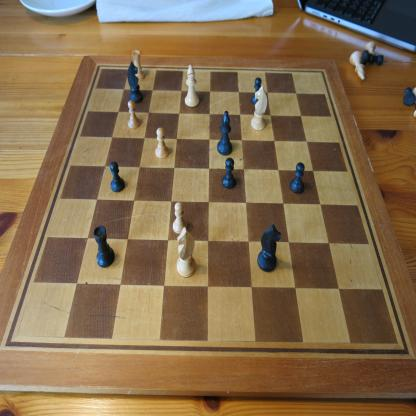black-knight: (257, 223, 281, 272), (216, 110, 233, 156), (127, 60, 143, 104)
black-pawn: (289, 162, 305, 194), (110, 160, 125, 192), (222, 157, 236, 190), (250, 77, 262, 106)
black-rook: (93, 225, 115, 268), (361, 49, 384, 66)
white-bishop: (184, 64, 200, 108), (349, 50, 366, 82)
white-knight: (176, 226, 196, 278), (250, 85, 268, 131)
white-pawn: (172, 202, 188, 234), (155, 127, 169, 159), (127, 100, 141, 129)
white-rook: (131, 50, 145, 82)
